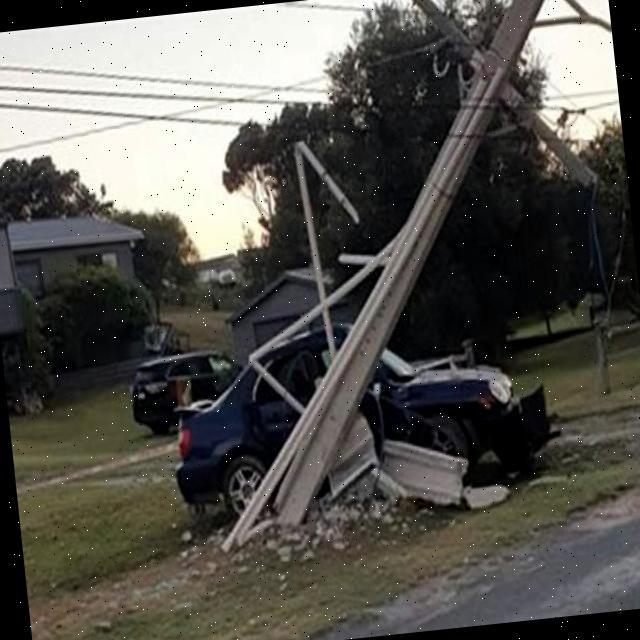Broken Pole: (212, 0, 626, 553)
